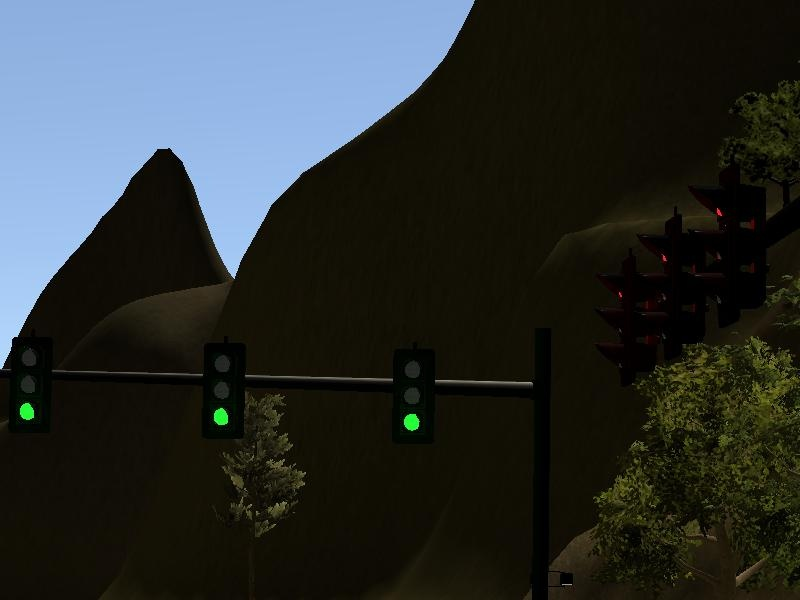GREEN: (390, 348, 433, 441), (201, 341, 244, 434), (10, 335, 53, 428)
